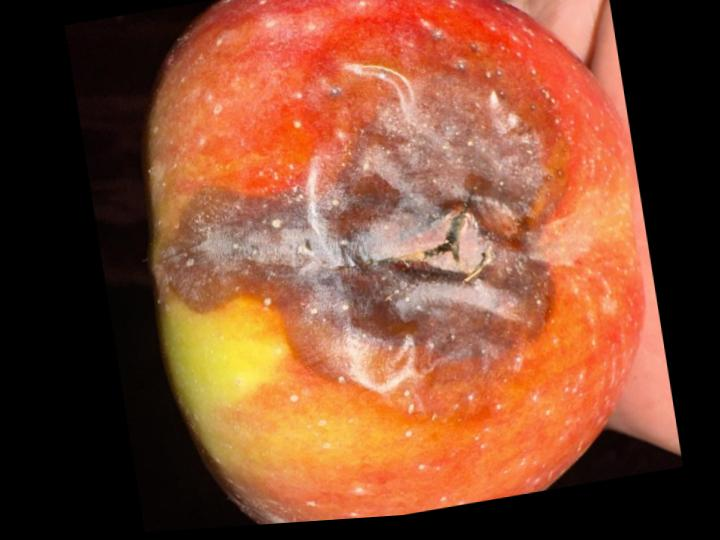apple: (143, 0, 644, 524)
rot_mold_decay: (157, 53, 567, 411)
